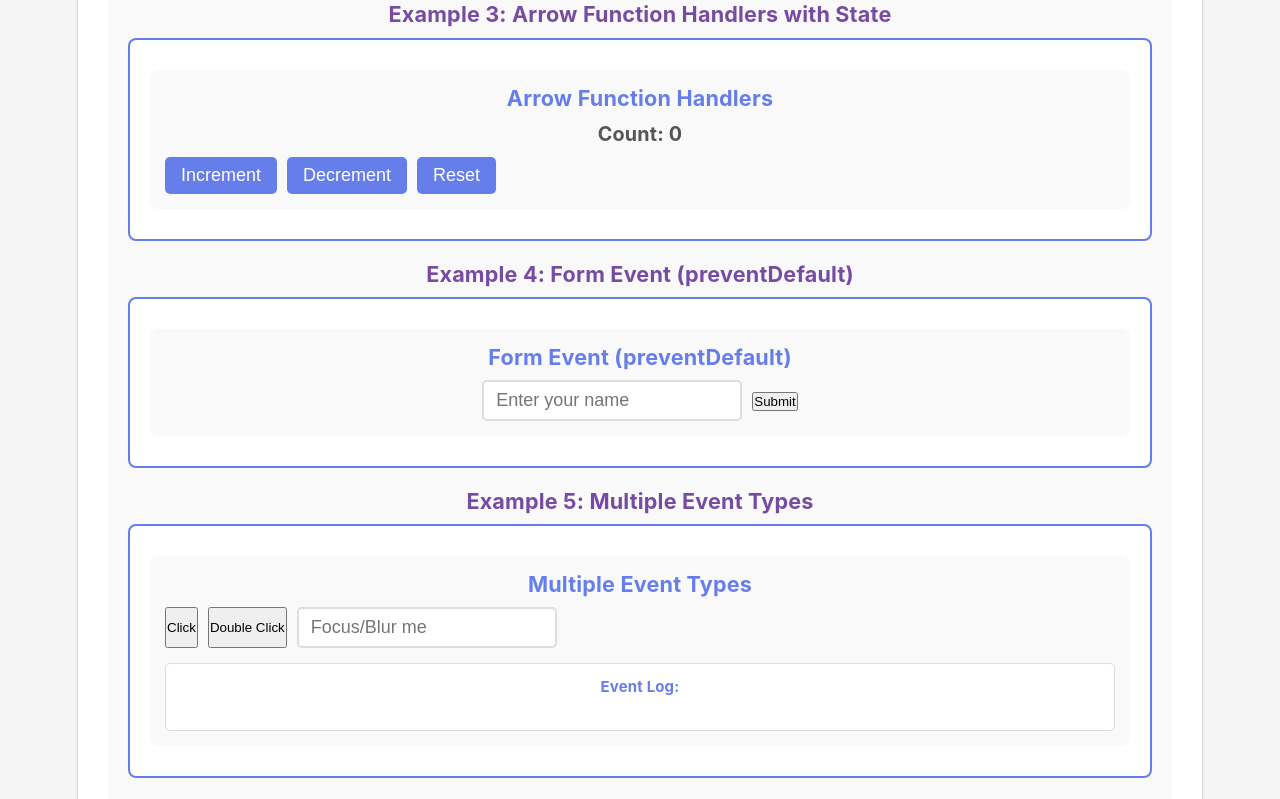
Test: EventHandlingDemo › handles form submission without page reload
(page scrolled)
Note: Find the input and type a name
Type "John Doe" into the field with placeholder "Enter your name" at (612, 400), box [482,380,742,421]
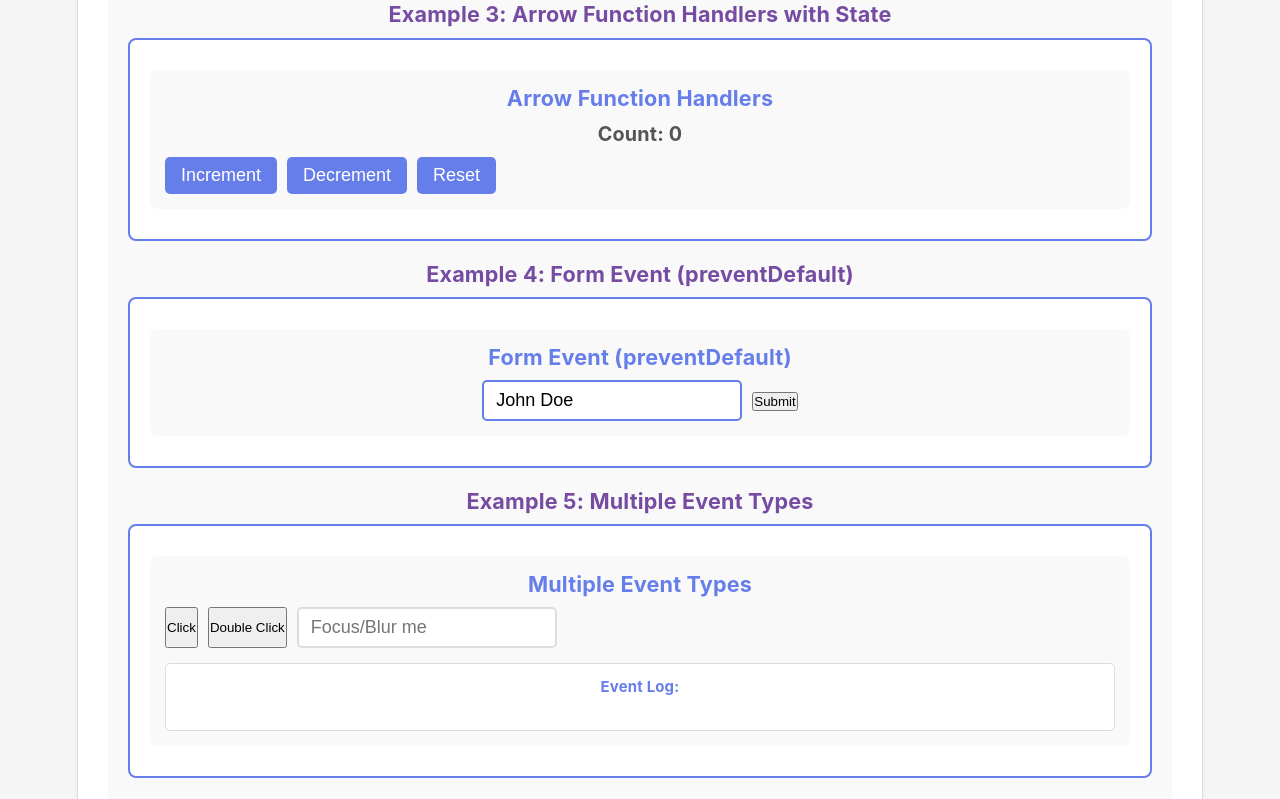
Note: Submit the form
Click the button "Submit" at (775, 401), box [752,392,798,411]
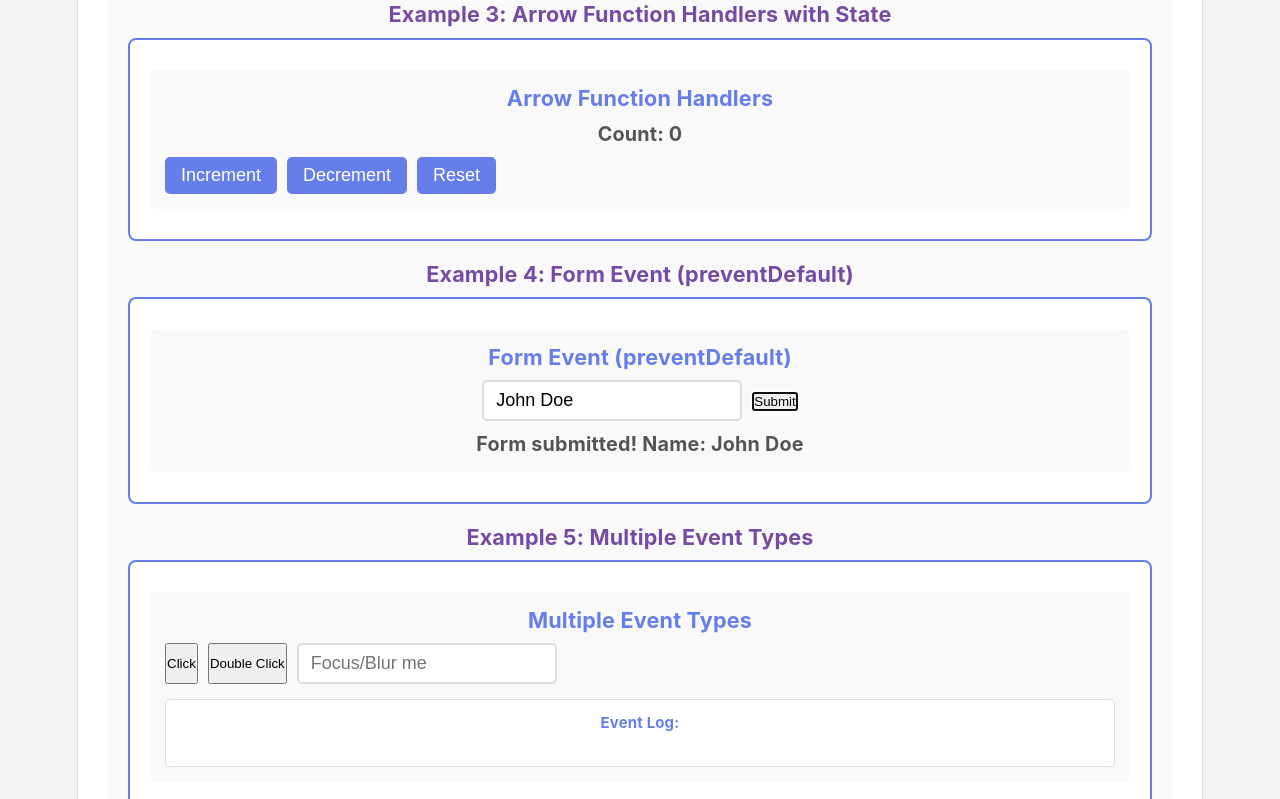
Expected: the text "Form submitted! Name: John Doe" is shown, [476,432,804,456]
